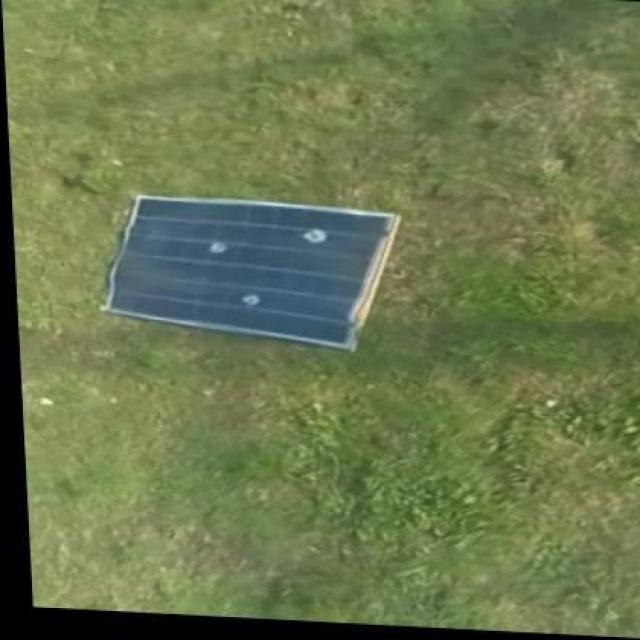soiled: (92, 190, 394, 352)
